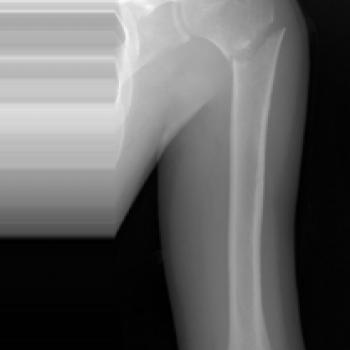Fracture: (230, 20, 292, 57)
